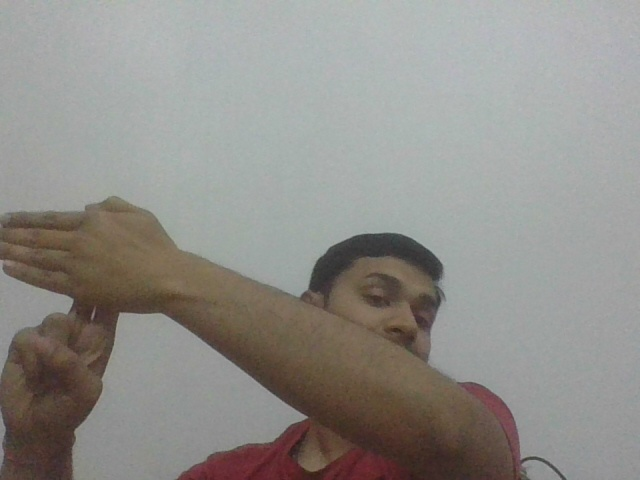N: (1, 190, 171, 327)
